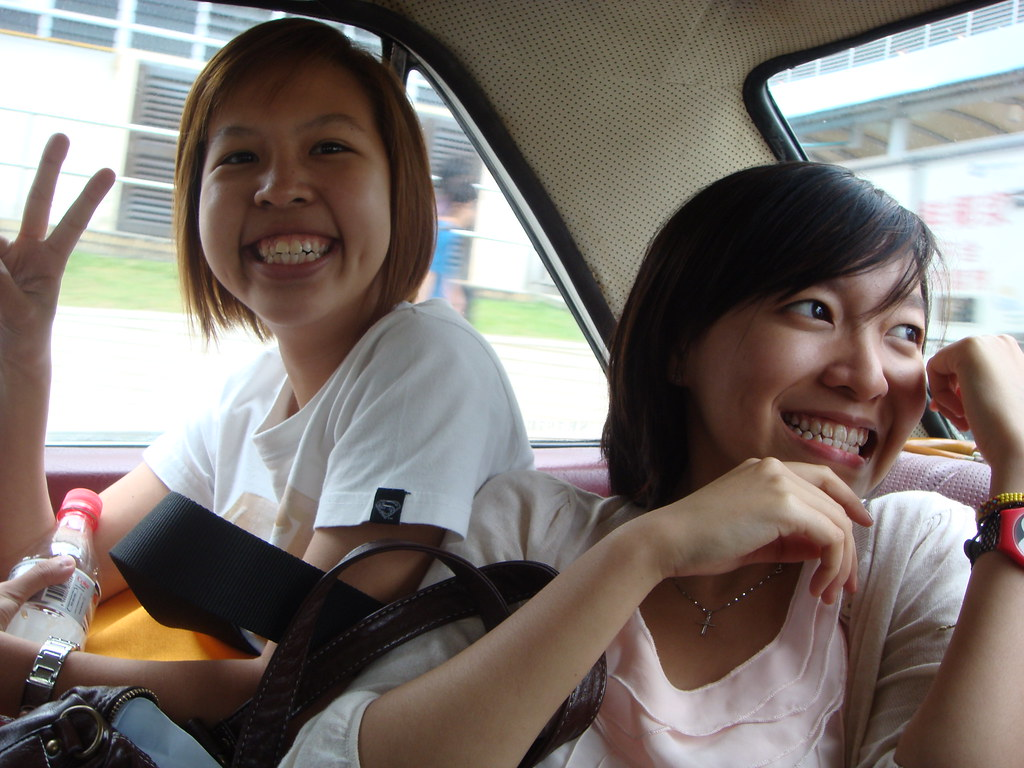person: (10, 12, 496, 652), (582, 107, 1024, 768)
